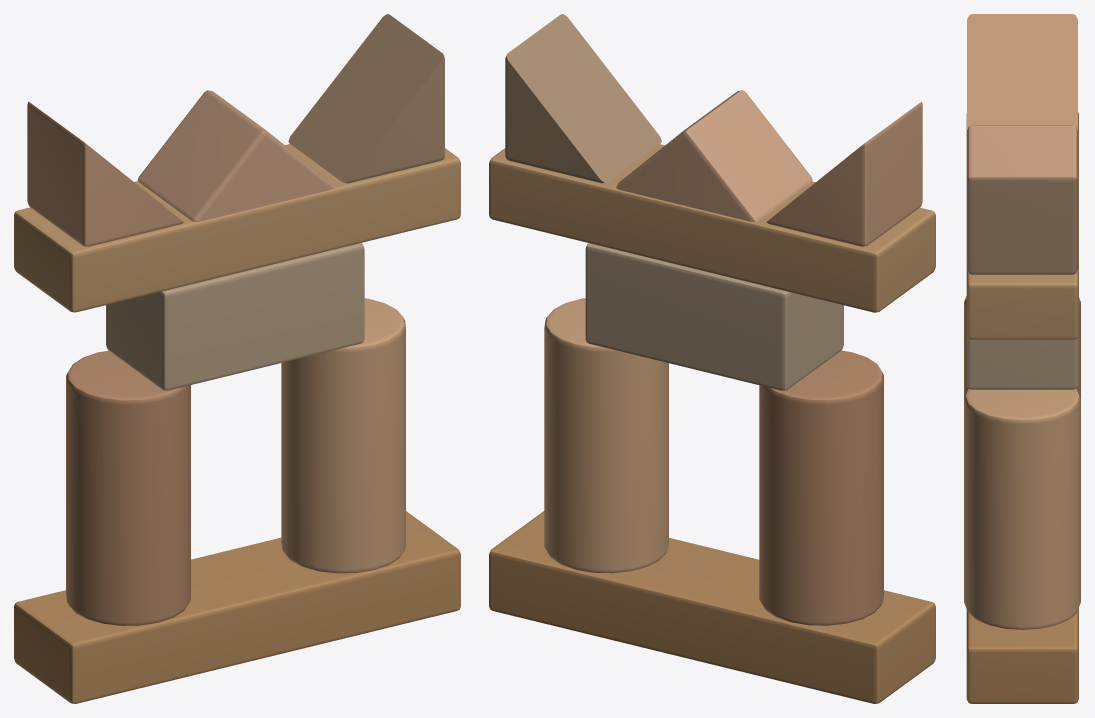
Rendered from Building_Block_2.fbx.
3 renders of one model, left to right at view 1: azimuth 30°, elevation 25°; view 2: azimuth 150°, elevation 25°; view 3: azimuth 270°, elevation 25°, orthographic. The views are drawn at different scales.
Visible parts, largest first — view 1: pCube9, pCylinder4, pCube11, pCylinder5, pCube10, pCube14, pCube12, pCube13; view 2: pCube9, pCylinder4, pCube11, pCylinder5, pCube10, pCube14, pCube12, pCube13; view 3: pCylinder5, pCube13, pCube14, pCube9, pCube11, pCube12, pCube10, pCylinder4.
Part boxes in pixels (x1,y1,x2,y2): pCube9: (14,511,460,703); pCylinder4: (66,350,190,625); pCube11: (14,144,460,312); pCylinder5: (281,298,405,573); pCube10: (106,243,364,390); pCube14: (288,14,444,183); pCube12: (137,90,333,221); pCube13: (27,101,183,246); pCube9: (489,511,935,703); pCylinder4: (759,350,883,625); pCube11: (489,144,935,312); pCylinder5: (544,298,668,573); pCube10: (585,243,843,390); pCube14: (505,14,661,183); pCube12: (616,90,812,221); pCube13: (766,101,922,246); pCylinder5: (964,389,1080,629); pCube13: (967,14,1077,129); pCube14: (967,177,1077,274); pCube9: (966,608,1078,703); pCube11: (966,112,1078,339); pCube12: (967,125,1077,178); pCube10: (966,335,1078,389); pCylinder4: (964,296,1080,399).
Bounding box in the file's own units: 7.19 × 9.84 × 2.
